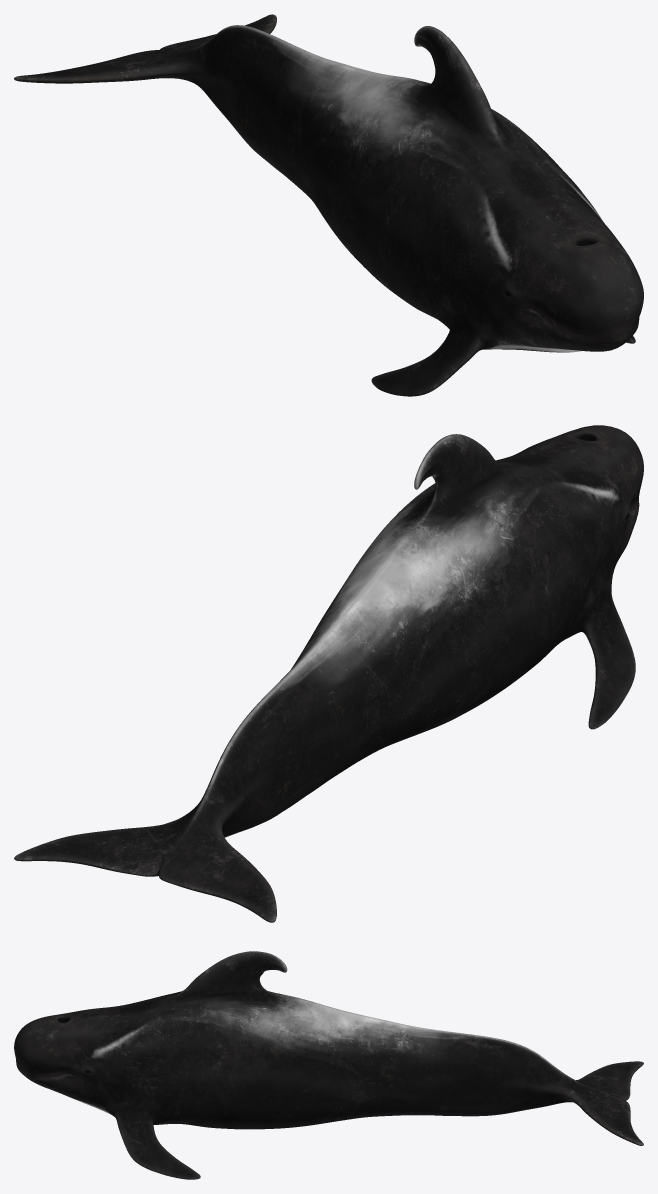
File: model-globicephala-macrorhynchus.glb
3 renders of one model, top to bottom at view 1: azimuth 30°, elevation 25°; view 2: azimuth 150°, elevation 25°; view 3: azimuth 270°, elevation 25°, orthographic. The views are drawn at different scales.
Visible parts, largest first — view 1: polySurface1; view 2: polySurface1; view 3: polySurface1.
Boxes of the visible parts, <box> form: polySurface1: <box>14,14,643,396</box>; polySurface1: <box>14,425,643,922</box>; polySurface1: <box>14,951,643,1179</box>.
Size of the model in its own units: 1.6 by 1.73 by 5.12.
1 material, 1 textured.
